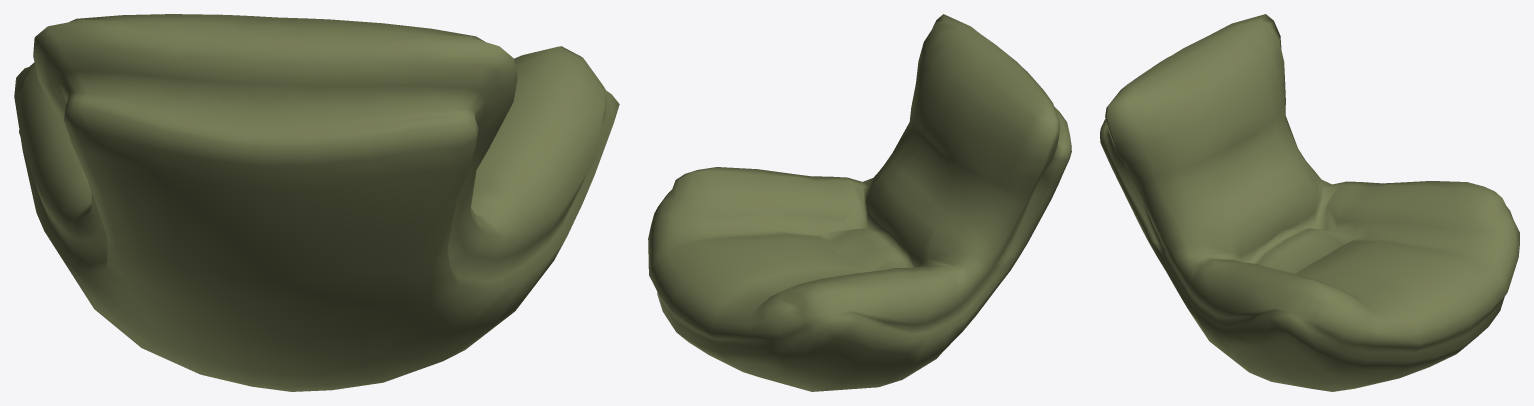
Rendered from kreslo_green.fbx.
The picture shows the model from 3 angles, left to right: view 1: azimuth 30°, elevation 25°; view 2: azimuth 150°, elevation 25°; view 3: azimuth 270°, elevation 25°; orthographic projection. The views are drawn at different scales.
Visible parts, largest first — view 1: Plane.014; view 2: Plane.014; view 3: Plane.014.
Boxes of the visible parts, x1,y1,x2,y2 form: Plane.014: [14, 14, 619, 391]; Plane.014: [648, 14, 1071, 391]; Plane.014: [1100, 14, 1519, 391].
Bounding box in the file's own units: 92.53 × 67 × 94.6.
